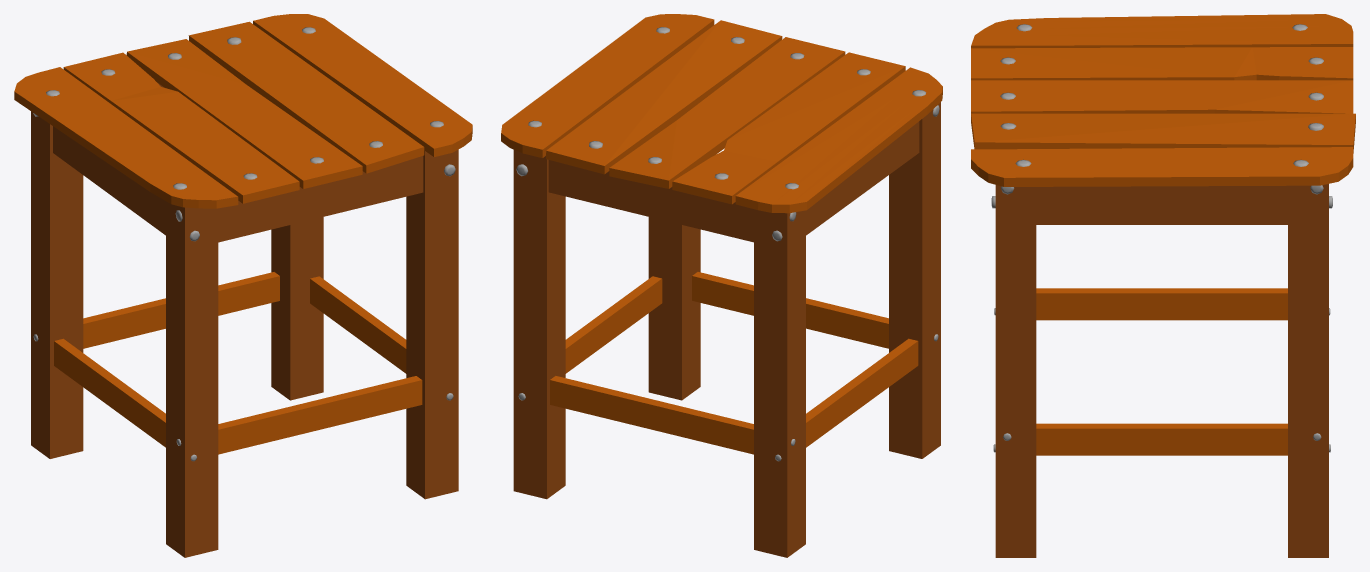
Rendered from Chair1.fbx.
The picture shows the model from 3 angles, left to right: view 1: azimuth 30°, elevation 25°; view 2: azimuth 150°, elevation 25°; view 3: azimuth 270°, elevation 25°; orthographic projection. The views are drawn at different scales.
Parts seen in each view (by area): view 1: Chair1_LOD0; view 2: Chair1_LOD0; view 3: Chair1_LOD0.
Boxes of the visible parts, box(x1,y1,x2,y2) form: Chair1_LOD0: box(14, 14, 472, 557); Chair1_LOD0: box(501, 14, 942, 557); Chair1_LOD0: box(971, 14, 1355, 557).
Size of what is drawn, in the model's own units: 233 by 261 by 232.
